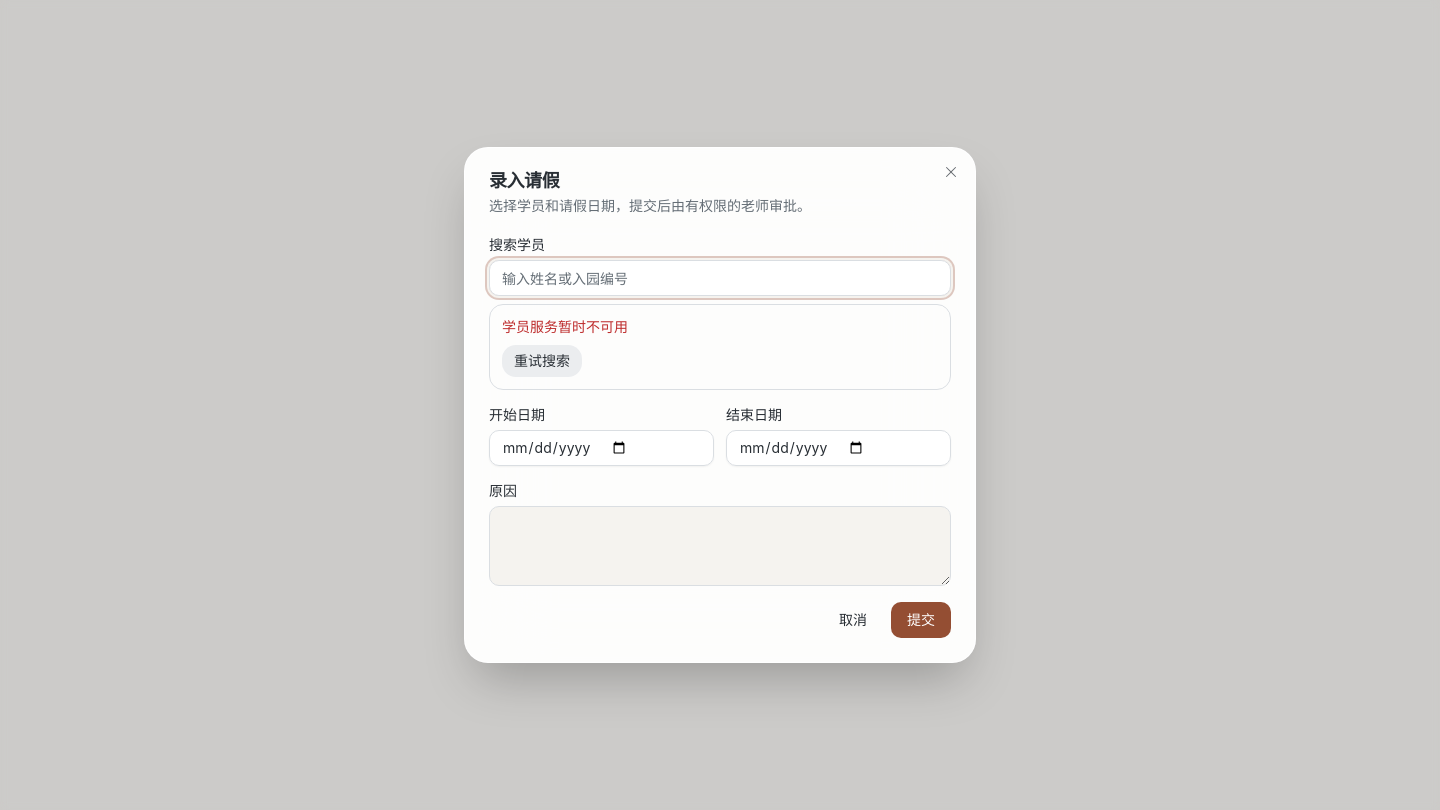
Test: LeaveRequestFormDialog › shows search errors and allows retrying the student search
Expected: the message reads "学员服务暂时不可用", [502, 318, 628, 335]
Click the button "重试搜索": (542, 361) [502, 345, 582, 377]
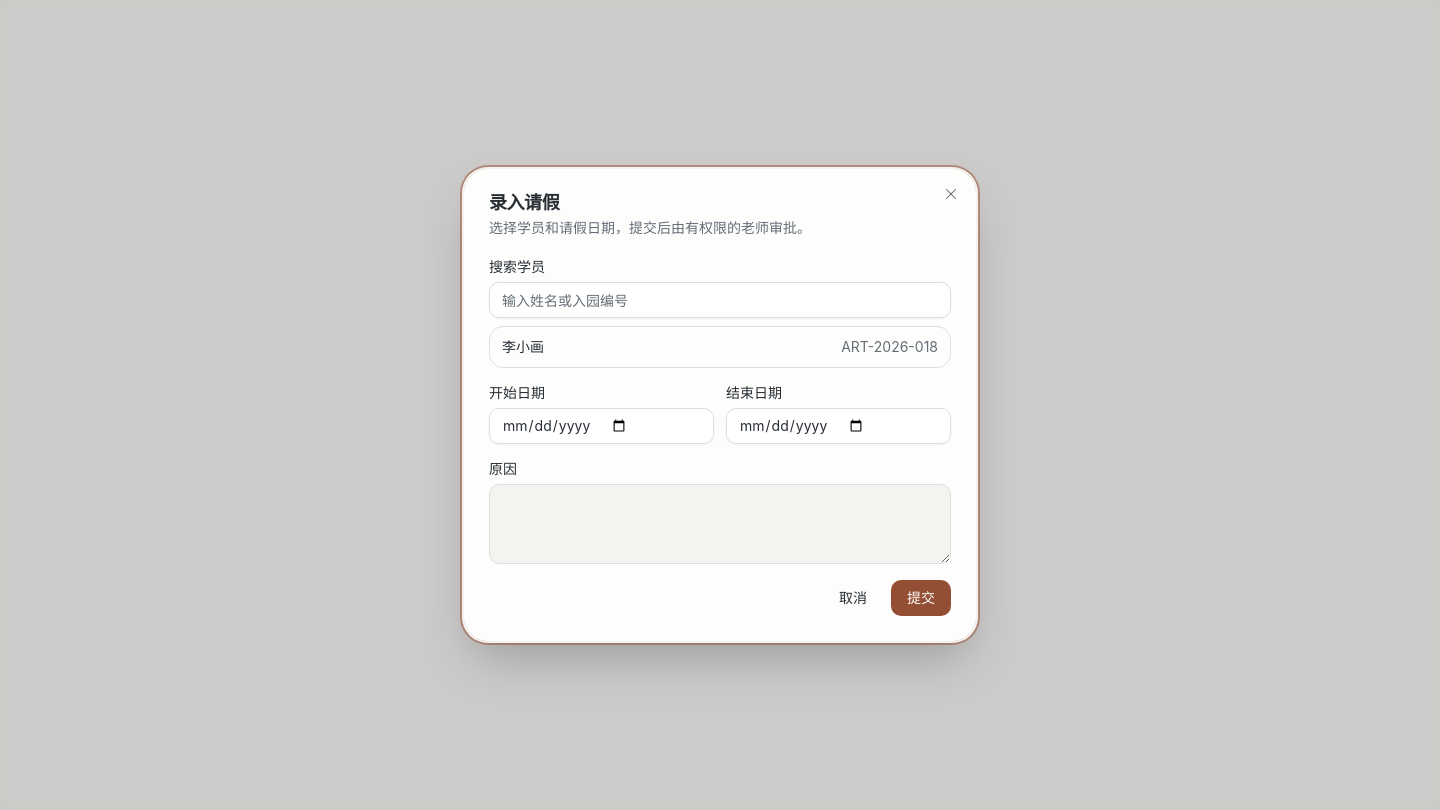
Expected: the button "李小画 ART-2026-018" is shown, [490, 327, 950, 367]
